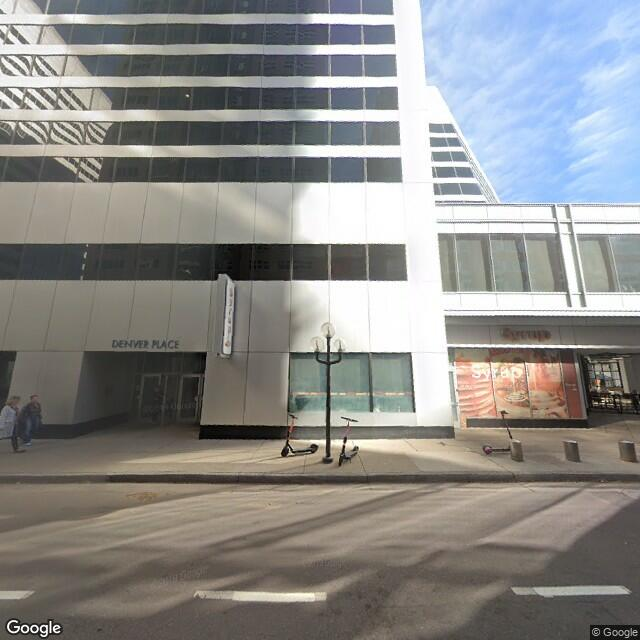lamp: (304, 320, 346, 461)
